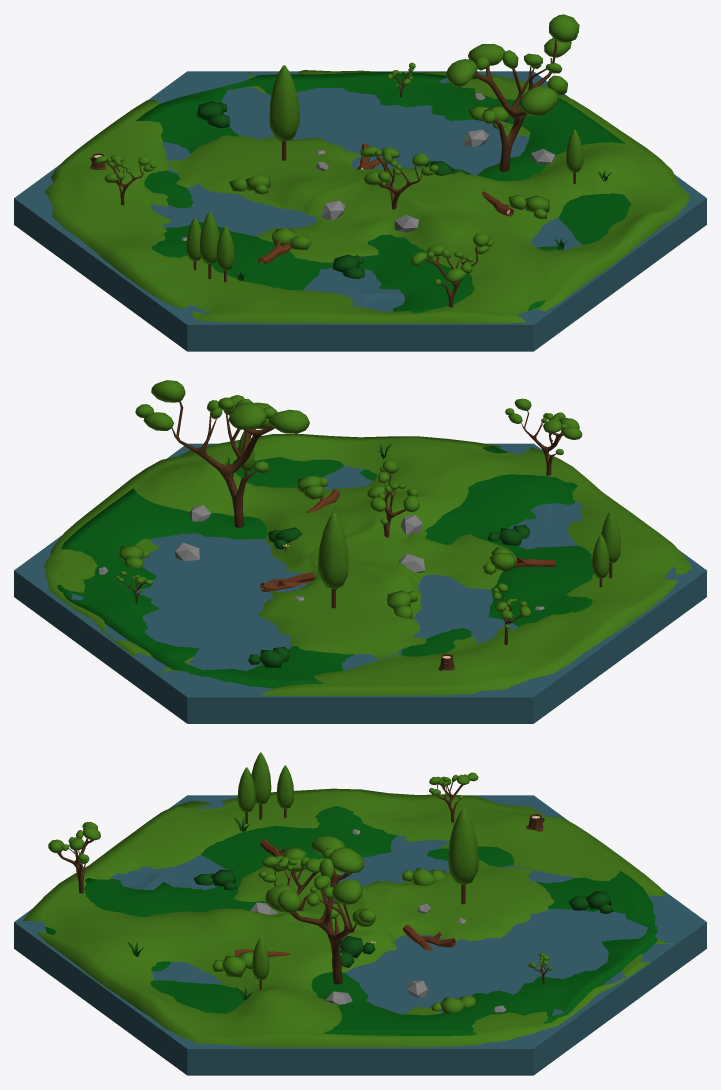
File: Peatland_Tile 1.fbx
3 views of the same model, one above another, from view 1: azimuth 30°, elevation 25°; view 2: azimuth 150°, elevation 25°; view 3: azimuth 270°, elevation 25° (orthographic).
Visible parts, largest first — view 1: Cylinder.001; view 2: Cylinder.001; view 3: Cylinder.001.
Part boxes in pixels (<box>): Cylinder.001: <box>14,14,706,351</box>; Cylinder.001: <box>14,380,706,723</box>; Cylinder.001: <box>14,752,706,1075</box>.
Bounding box in the file's own units: 116 × 100 × 30.24.
